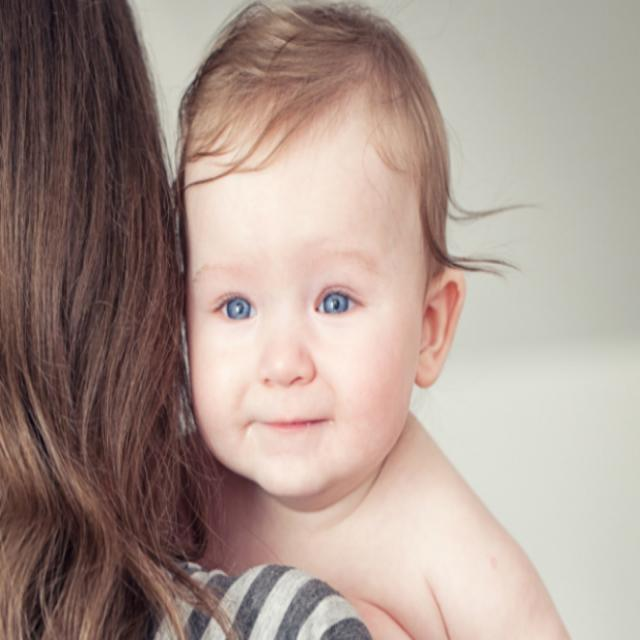non-dog: (175, 0, 573, 640), (1, 3, 375, 634)
